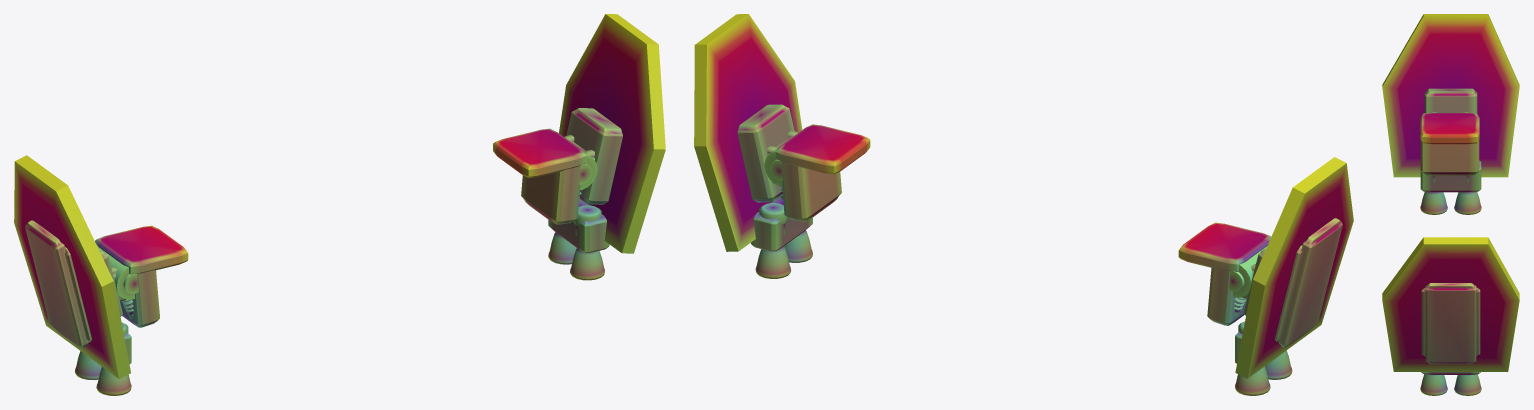
The model's file is llm_gen_shoulder_pods_010_af33d9.glb.
3 views of the same model, side by side, from view 1: azimuth 30°, elevation 25°; view 2: azimuth 150°, elevation 25°; view 3: azimuth 270°, elevation 25° (orthographic). The views are drawn at different scales.
Visible parts, largest first — view 1: binder_shield_wing_2_wing_white_r, binder_shield_wing_2_wing_white_l, adapter_shoulder_yoke_r, adapter_shoulder_yoke_l, binder_trim_blue_4_adapter_dark_l, adapter_sub_wing_clevis_dark_1_adapter_dark_r, adapter_sub_exhaust_pod_dark_5_adapter_dark_r, binder_vernier_b_7_vernier_bell_vernier_r, binder_vernier_b_7_vernier_bell_vernier_l, binder_vernier_a_6_vernier_bell_vernier_r, adapter_sub_trim_clamp_dark_3_adapter_dark_l; view 2: binder_shield_wing_2_wing_white_r, binder_shield_wing_2_wing_white_l, adapter_shoulder_yoke_r, adapter_shoulder_yoke_l, binder_trim_blue_4_adapter_dark_l, adapter_sub_wing_clevis_dark_1_adapter_dark_r, adapter_sub_exhaust_pod_dark_5_adapter_dark_r, binder_vernier_a_6_vernier_bell_vernier_r, binder_vernier_a_6_vernier_bell_vernier_l, binder_vernier_b_7_vernier_bell_vernier_r, adapter_sub_trim_clamp_dark_3_adapter_dark_l; view 3: binder_shield_wing_2_wing_white_l, binder_shield_wing_2_wing_white_r, binder_trim_blue_4_adapter_dark_r, adapter_shoulder_yoke_l, adapter_sub_wing_clevis_dark_1_adapter_dark_l, adapter_sub_exhaust_pod_dark_5_adapter_dark_l, adapter_sub_trim_clamp_dark_3_adapter_dark_r, binder_vernier_a_6_vernier_bell_vernier_l, binder_vernier_b_7_vernier_bell_vernier_l, binder_vernier_a_6_vernier_bell_vernier_r, binder_vernier_b_7_vernier_bell_vernier_r, adapter_sub_exhaust_pod_dark_5_adapter_dark_r.
Part boxes in pixels (<box>): binder_shield_wing_2_wing_white_r: <box>559,14,665,253</box>; binder_shield_wing_2_wing_white_l: <box>14,155,130,378</box>; adapter_shoulder_yoke_r: <box>493,128,597,224</box>; adapter_shoulder_yoke_l: <box>95,225,188,327</box>; binder_trim_blue_4_adapter_dark_l: <box>25,220,88,348</box>; adapter_sub_wing_clevis_dark_1_adapter_dark_r: <box>566,108,622,204</box>; adapter_sub_exhaust_pod_dark_5_adapter_dark_r: <box>548,199,609,253</box>; binder_vernier_b_7_vernier_bell_vernier_r: <box>570,248,604,280</box>; binder_vernier_b_7_vernier_bell_vernier_l: <box>96,367,131,395</box>; binder_vernier_a_6_vernier_bell_vernier_r: <box>548,232,576,264</box>; adapter_sub_trim_clamp_dark_3_adapter_dark_l: <box>65,247,92,342</box>; binder_shield_wing_2_wing_white_r: <box>694,14,802,251</box>; binder_shield_wing_2_wing_white_l: <box>1235,157,1353,378</box>; adapter_shoulder_yoke_r: <box>764,124,870,221</box>; adapter_shoulder_yoke_l: <box>1178,222,1271,325</box>; binder_trim_blue_4_adapter_dark_l: <box>1278,218,1342,347</box>; adapter_sub_wing_clevis_dark_1_adapter_dark_r: <box>737,104,794,202</box>; adapter_sub_exhaust_pod_dark_5_adapter_dark_r: <box>751,197,812,251</box>; binder_vernier_a_6_vernier_bell_vernier_r: <box>755,246,791,278</box>; binder_vernier_a_6_vernier_bell_vernier_l: <box>1235,366,1270,395</box>; binder_vernier_b_7_vernier_bell_vernier_r: <box>784,230,812,262</box>; adapter_sub_trim_clamp_dark_3_adapter_dark_l: <box>1275,245,1302,341</box>; binder_shield_wing_2_wing_white_l: <box>1382,14,1519,177</box>; binder_shield_wing_2_wing_white_r: <box>1382,237,1519,371</box>; binder_trim_blue_4_adapter_dark_r: <box>1425,283,1476,364</box>; adapter_shoulder_yoke_l: <box>1420,113,1479,175</box>; adapter_sub_wing_clevis_dark_1_adapter_dark_l: <box>1424,88,1477,113</box>; adapter_sub_exhaust_pod_dark_5_adapter_dark_l: <box>1420,160,1481,192</box>; adapter_sub_trim_clamp_dark_3_adapter_dark_r: <box>1421,287,1480,356</box>; binder_vernier_a_6_vernier_bell_vernier_l: <box>1454,192,1481,214</box>; binder_vernier_b_7_vernier_bell_vernier_l: <box>1420,192,1447,214</box>; binder_vernier_a_6_vernier_bell_vernier_r: <box>1454,374,1481,395</box>; binder_vernier_b_7_vernier_bell_vernier_r: <box>1420,374,1447,395</box>; adapter_sub_exhaust_pod_dark_5_adapter_dark_r: <box>1421,372,1480,374</box>.
Size of the model in its own units: 119 by 41.83 by 30.08.
